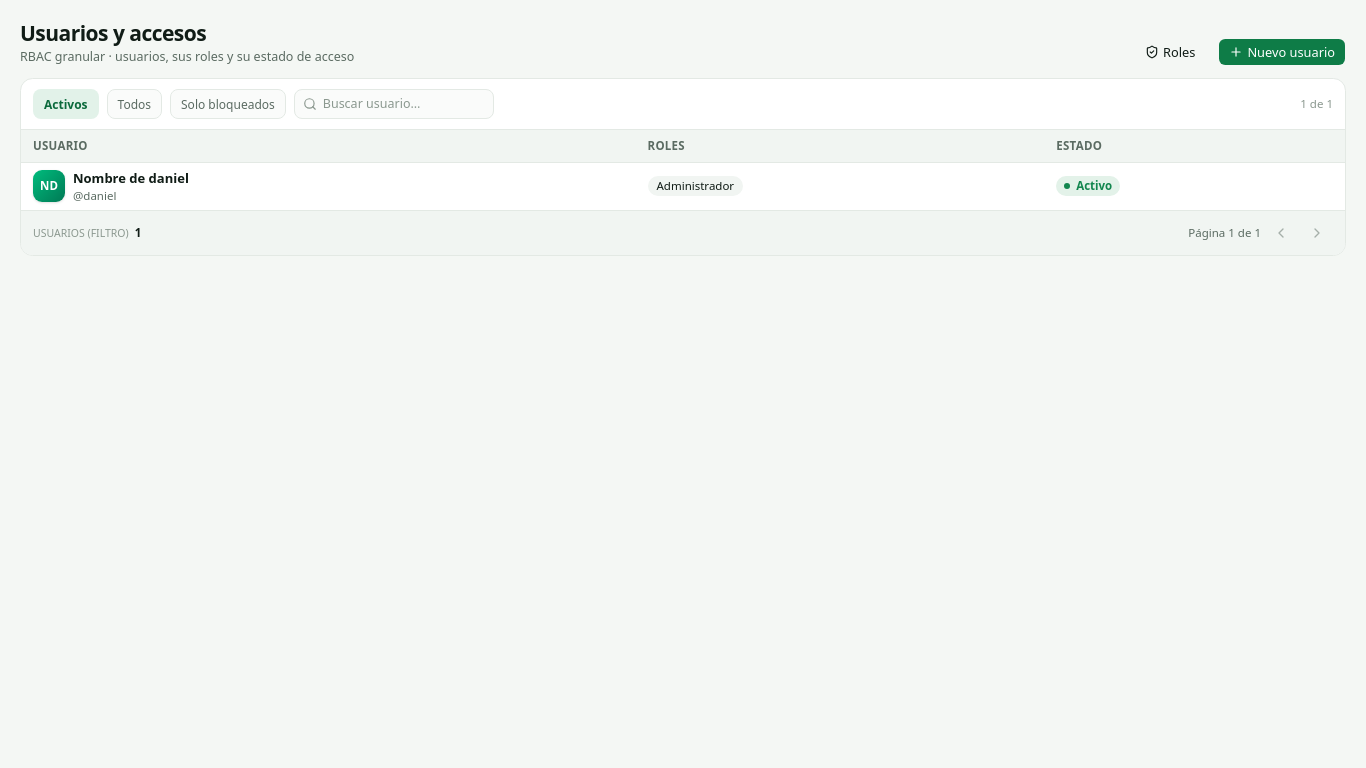
Test case: <UsuariosPagina> › aviso anti-lockout (quitar la administración) › avisa al desactivar a un administrador, diciendo qué hacer antes
Click the row with test id "fila-usuario".
click(683, 186)  # box [21,162,1345,210]
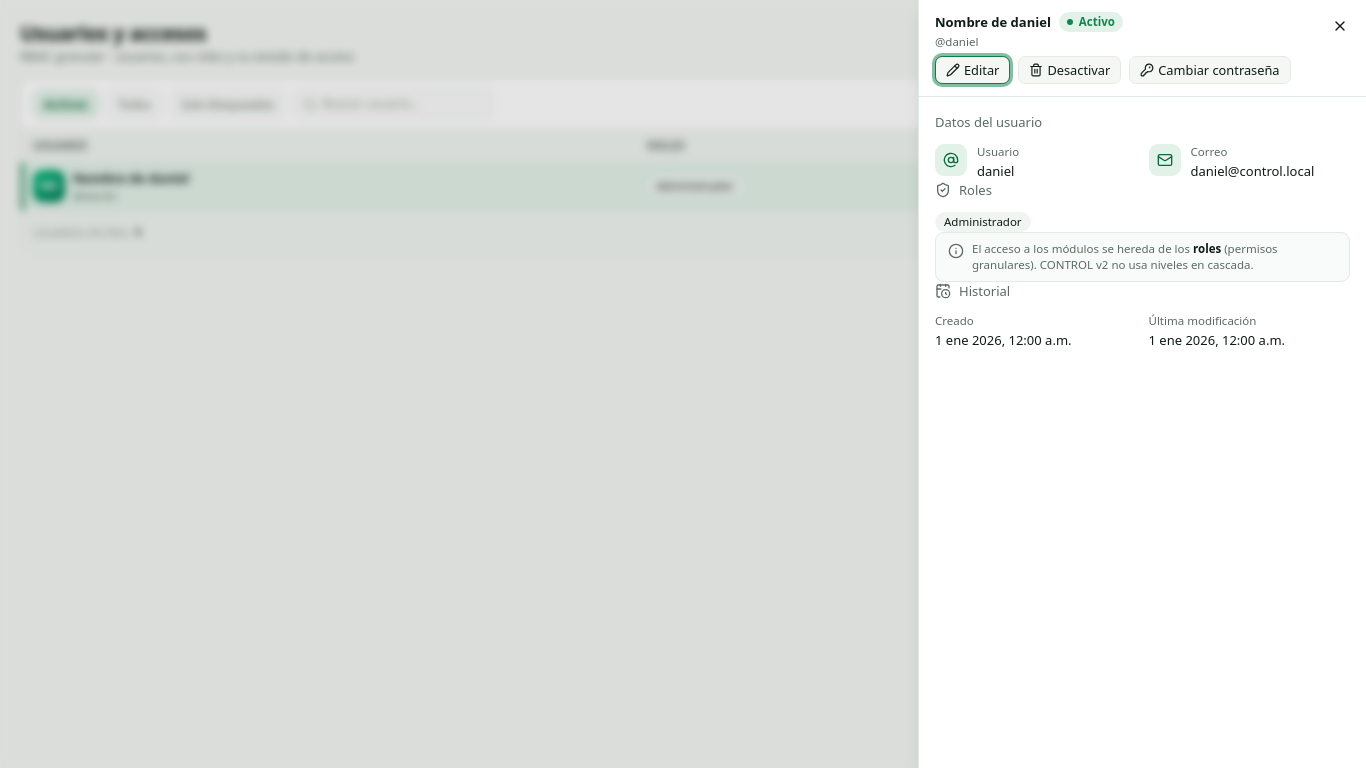
Click the button with test id "desactivar-usuario".
click(1070, 70)  # box [1018,56,1121,84]
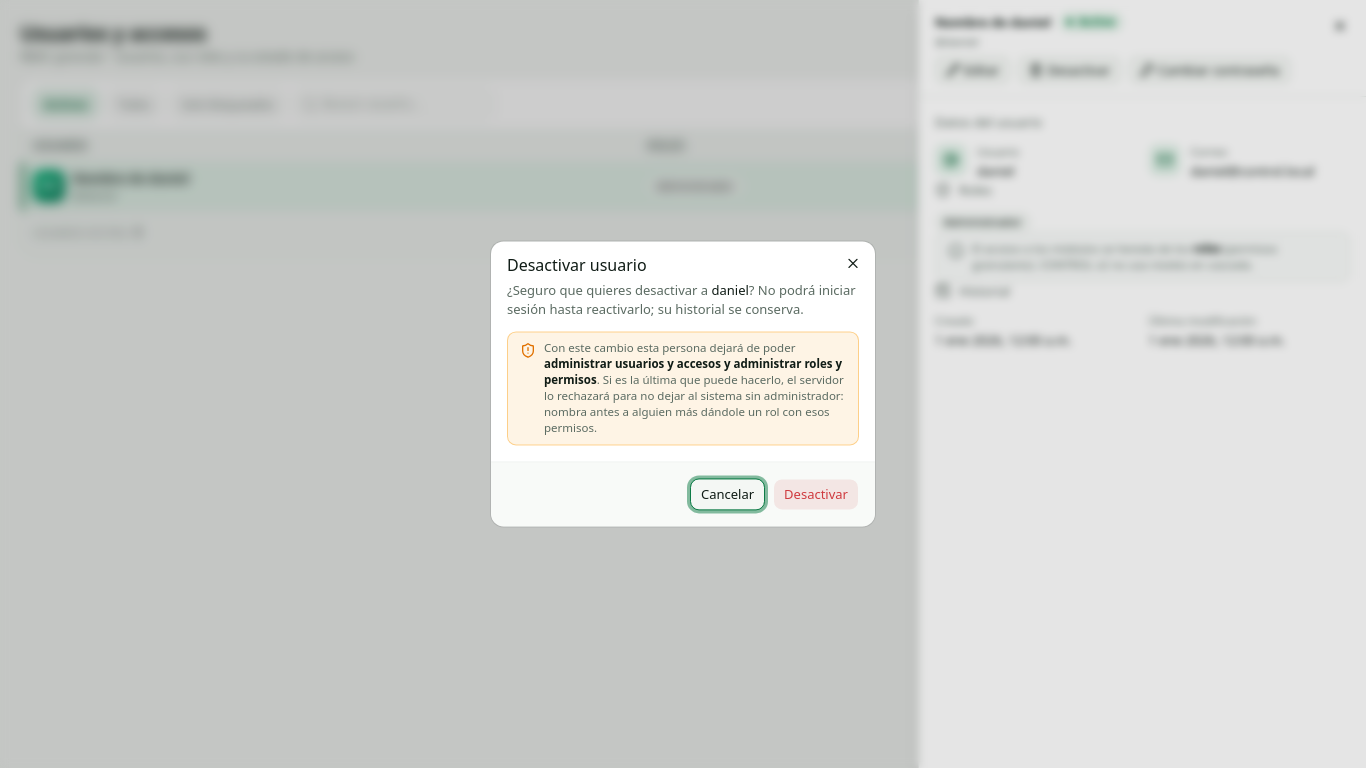
Check: the element with test id "aviso-quita-administracion" shows "administrar usuarios y accesos", box [544,356,842,387]
Check: the element with test id "aviso-quita-administracion" shows "nombra antes a alguien más", box [544,372,844,436]
Check: the button with test id "confirmar-accion" is enabled, box [773,479,859,511]
